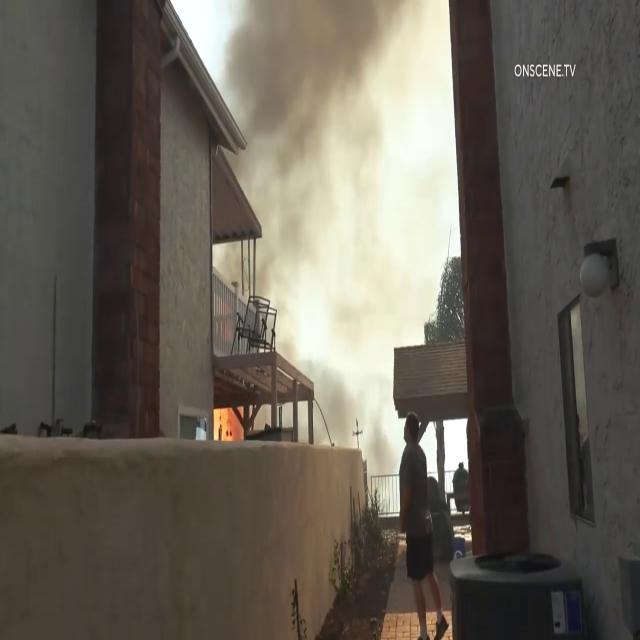Smoke: (222, 0, 419, 333)
